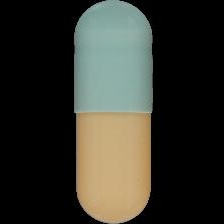0781-2076: (0, 0, 224, 224)
